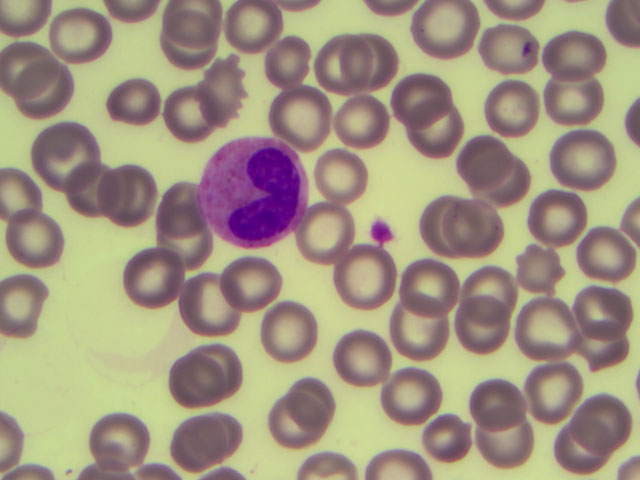Platelets: (365, 209, 393, 241)
RBC: (2, 43, 55, 99), (20, 66, 73, 122), (48, 121, 101, 177), (62, 167, 115, 223), (103, 173, 156, 229), (151, 180, 204, 236), (156, 218, 209, 274), (119, 250, 172, 306), (11, 213, 64, 269), (2, 275, 55, 331), (163, 352, 216, 408), (210, 339, 263, 395), (180, 280, 233, 336), (224, 256, 277, 312), (262, 302, 315, 358), (337, 251, 390, 307), (305, 208, 358, 264), (313, 149, 366, 205), (333, 96, 386, 152), (278, 91, 331, 147), (256, 34, 309, 90), (226, 2, 279, 58), (197, 54, 250, 110), (159, 85, 212, 141), (104, 75, 157, 131), (151, 18, 204, 74), (170, 1, 223, 57), (315, 36, 368, 92), (350, 26, 403, 82), (393, 67, 446, 123), (416, 108, 469, 164), (455, 139, 508, 195), (487, 160, 540, 216), (488, 83, 541, 139), (543, 72, 596, 128), (549, 31, 602, 87), (486, 23, 539, 79), (416, 5, 469, 61), (547, 127, 600, 183), (531, 186, 584, 242), (578, 223, 631, 279), (574, 278, 627, 334), (577, 317, 630, 373), (577, 397, 630, 453), (553, 411, 606, 467), (528, 365, 581, 421), (516, 302, 569, 358), (515, 241, 568, 297), (462, 265, 515, 321), (451, 300, 504, 356), (405, 257, 458, 313), (445, 205, 498, 261), (424, 195, 477, 251), (392, 306, 445, 362), (344, 325, 397, 381), (384, 366, 437, 422), (421, 405, 474, 461), (465, 380, 518, 436), (480, 418, 533, 474), (268, 395, 321, 451), (288, 366, 341, 422), (177, 412, 230, 468), (200, 408, 253, 464), (93, 408, 146, 464), (53, 7, 105, 58)
WBC: (202, 134, 313, 248)
